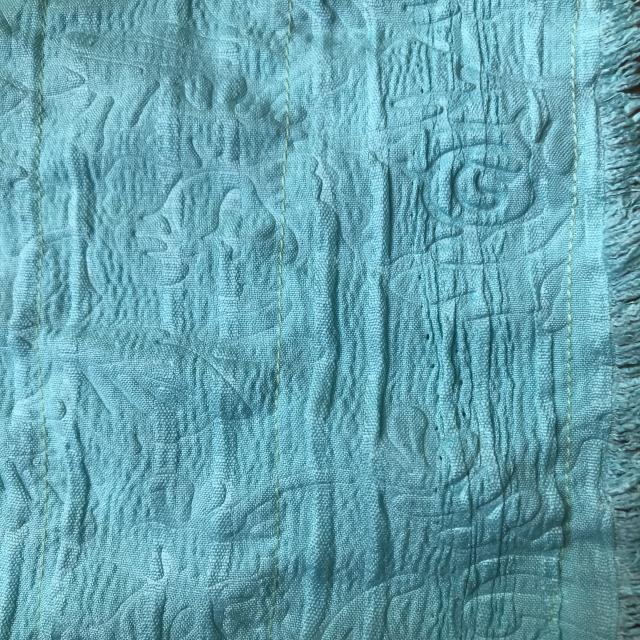good: (562, 298, 580, 421)
